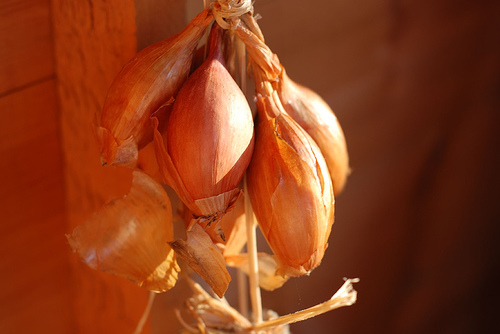onion: (94, 7, 217, 170), (244, 78, 336, 279), (173, 58, 259, 219)
